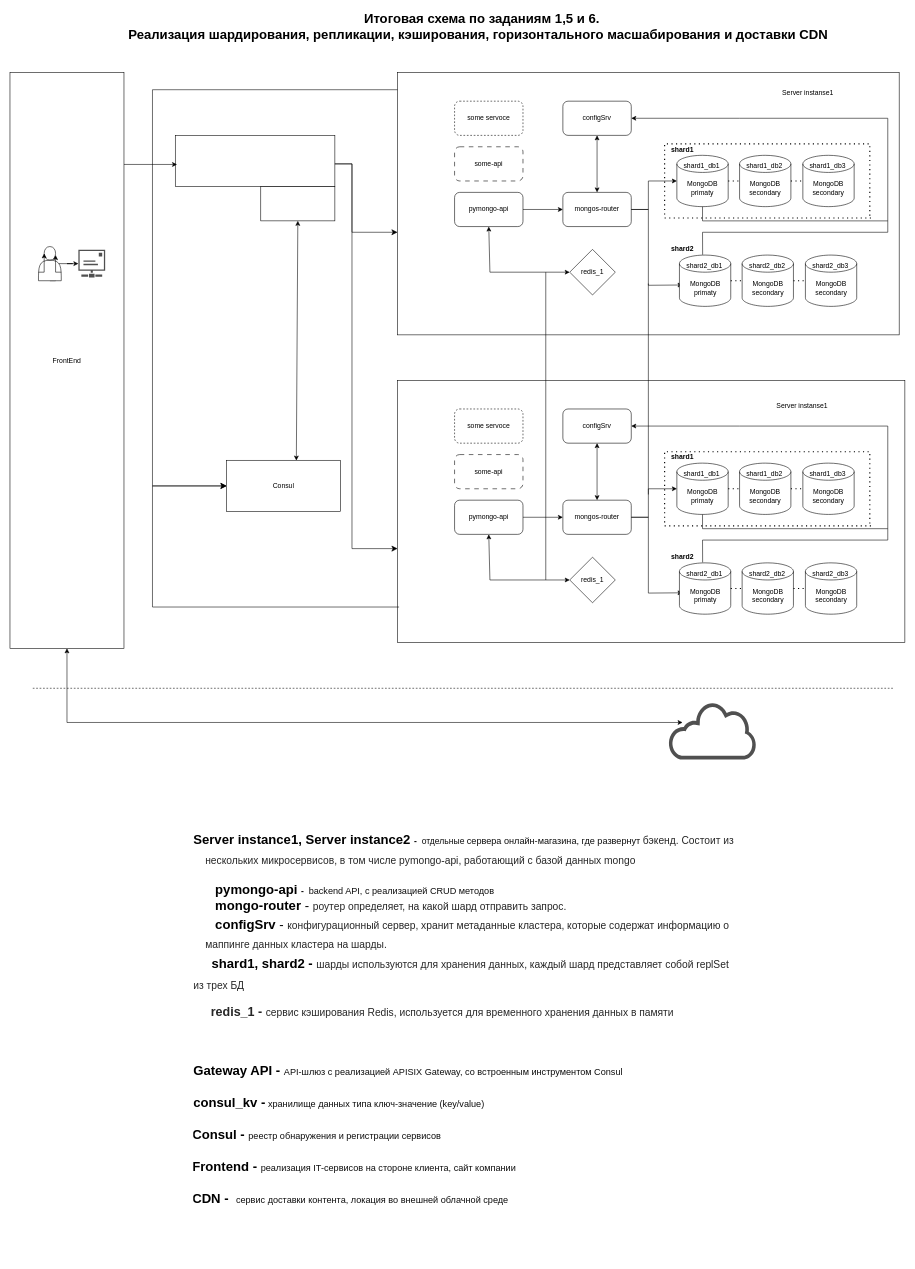
This 915x1269 diagram has some shape labels left out. Here are the shapes that lost their labels. From the top down, the centre of each, then its label:
point (255, 161): Gateway API APISIX Gateway
point (297, 203): consul_kv
point (712, 730): CDN
